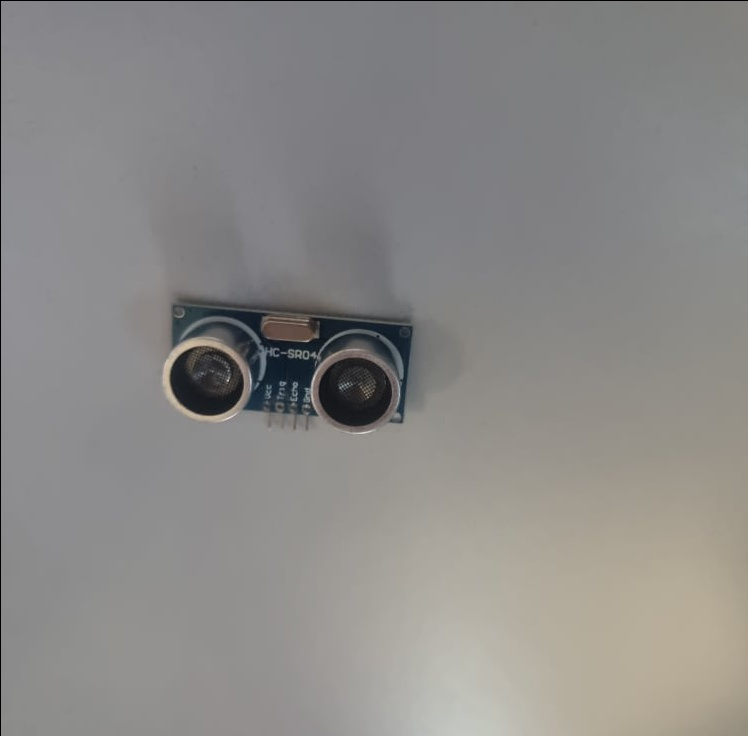SENSOR: (160, 301, 416, 436)
